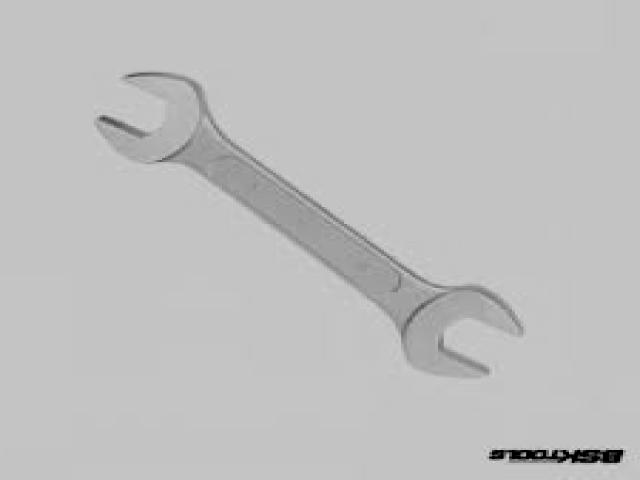Wrench: (98, 74, 518, 377)
